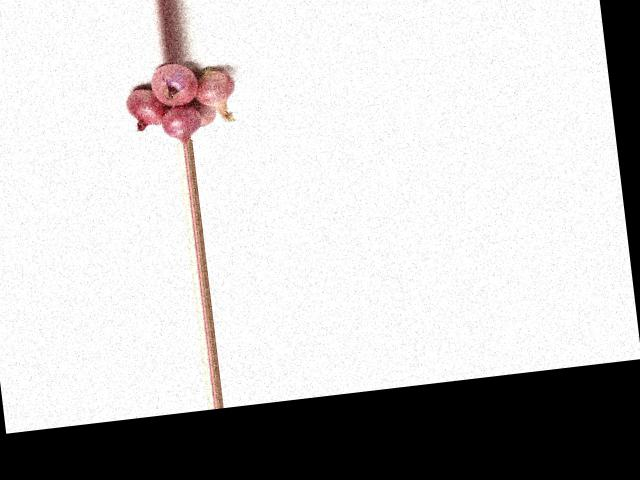onion: (148, 58, 209, 109)
